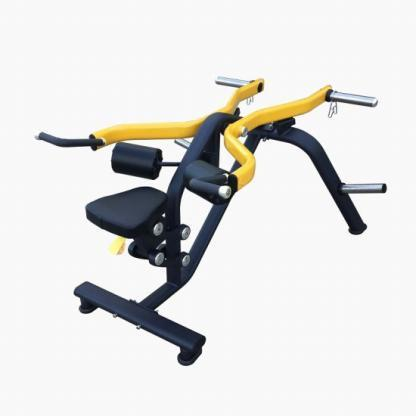seated dip machine: (33, 75, 387, 368)
